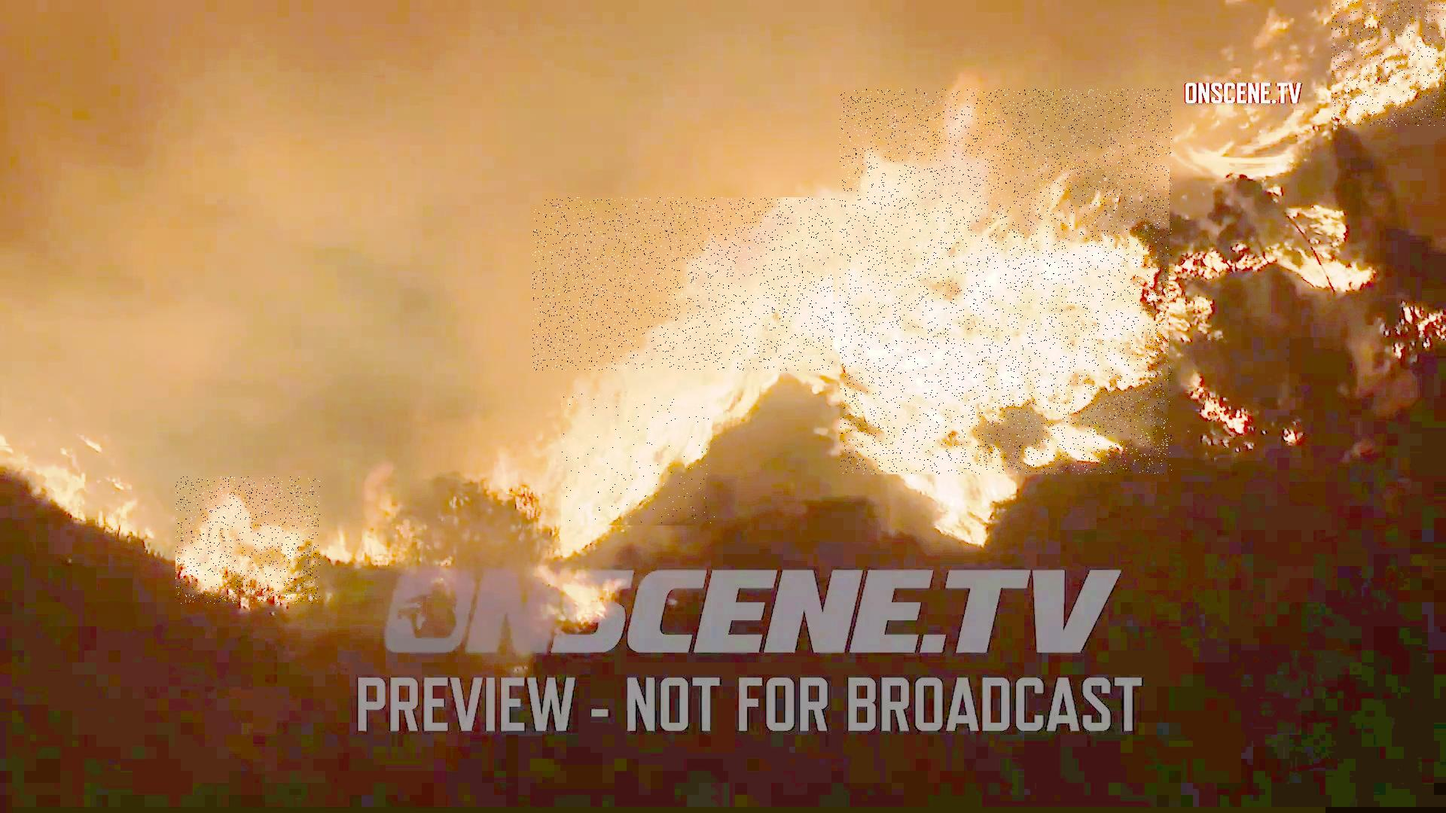fire: (840, 89, 1172, 474), (533, 198, 835, 371), (562, 394, 716, 526), (176, 477, 320, 604), (1332, 2, 1446, 127)
